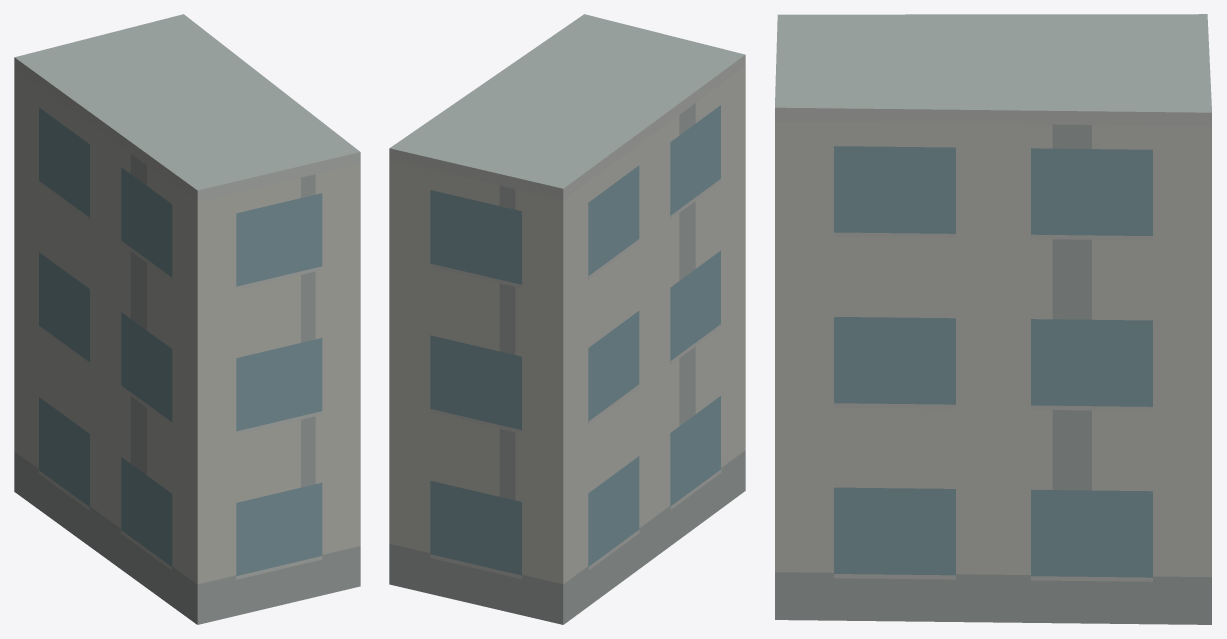
The model's file is survey-upis-32942574.glb.
The picture shows the model from 3 angles, left to right: view 1: azimuth 30°, elevation 25°; view 2: azimuth 150°, elevation 25°; view 3: azimuth 270°, elevation 25°; orthographic projection. The views are drawn at different scales.
Visible parts, largest first — view 1: survey-upis-32942574.tmp; view 2: survey-upis-32942574.tmp; view 3: survey-upis-32942574.tmp.
Part boxes in pixels (<box>): survey-upis-32942574.tmp: <box>14,14,360,624</box>; survey-upis-32942574.tmp: <box>389,14,745,624</box>; survey-upis-32942574.tmp: <box>775,14,1211,624</box>.
Bounding box in the file's own units: 3.79 × 9.15 × 7.09.
